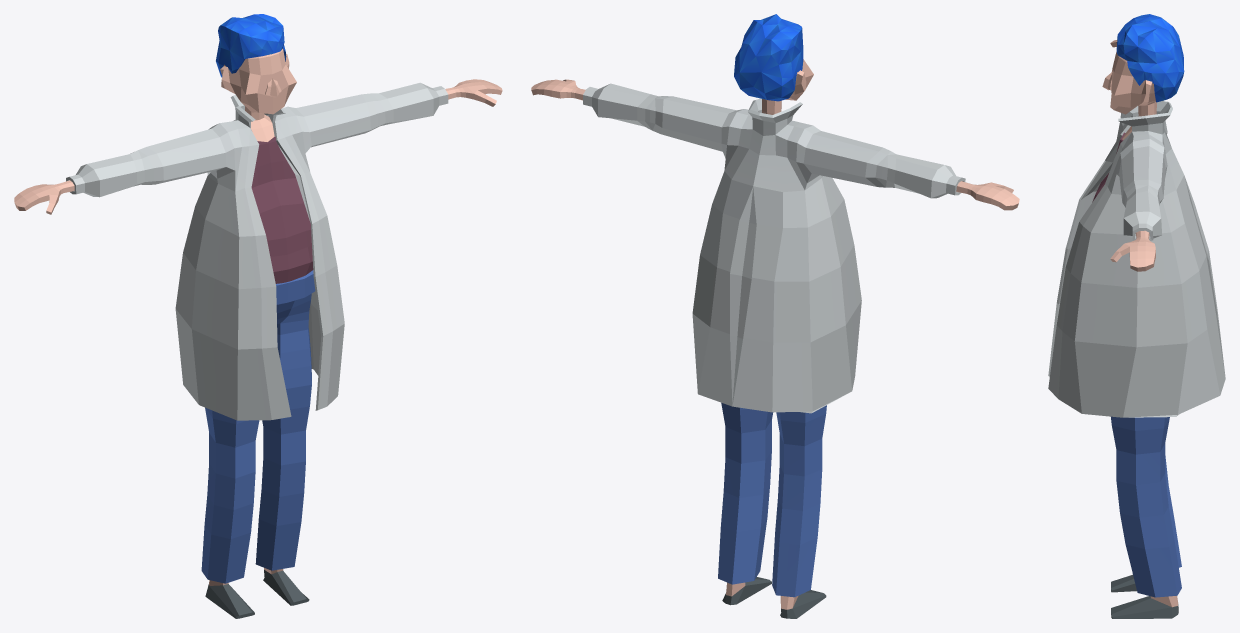
The model's file is laborant_2.fbx.
3 renders of one model, left to right at view 1: azimuth 30°, elevation 25°; view 2: azimuth 150°, elevation 25°; view 3: azimuth 270°, elevation 25°, orthographic.
Parts seen in each view (by area): view 1: laborant.002; view 2: laborant.002; view 3: laborant.002.
Boxes of the visible parts, <box> form: laborant.002: <box>14,14,502,618</box>; laborant.002: <box>531,14,1019,618</box>; laborant.002: <box>1048,14,1225,618</box>.
Size of the model in its own units: 148 by 170 by 47.26.
